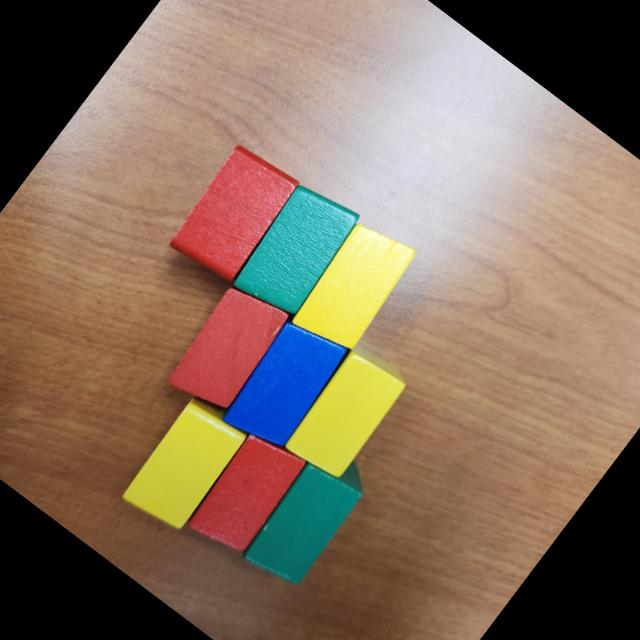blue: (212, 308, 356, 466)
green: (223, 172, 370, 330), (235, 438, 378, 598)
red: (160, 134, 307, 292), (157, 274, 296, 425), (180, 423, 310, 566)
yellow: (285, 212, 425, 363), (278, 339, 416, 489), (118, 394, 252, 540)
